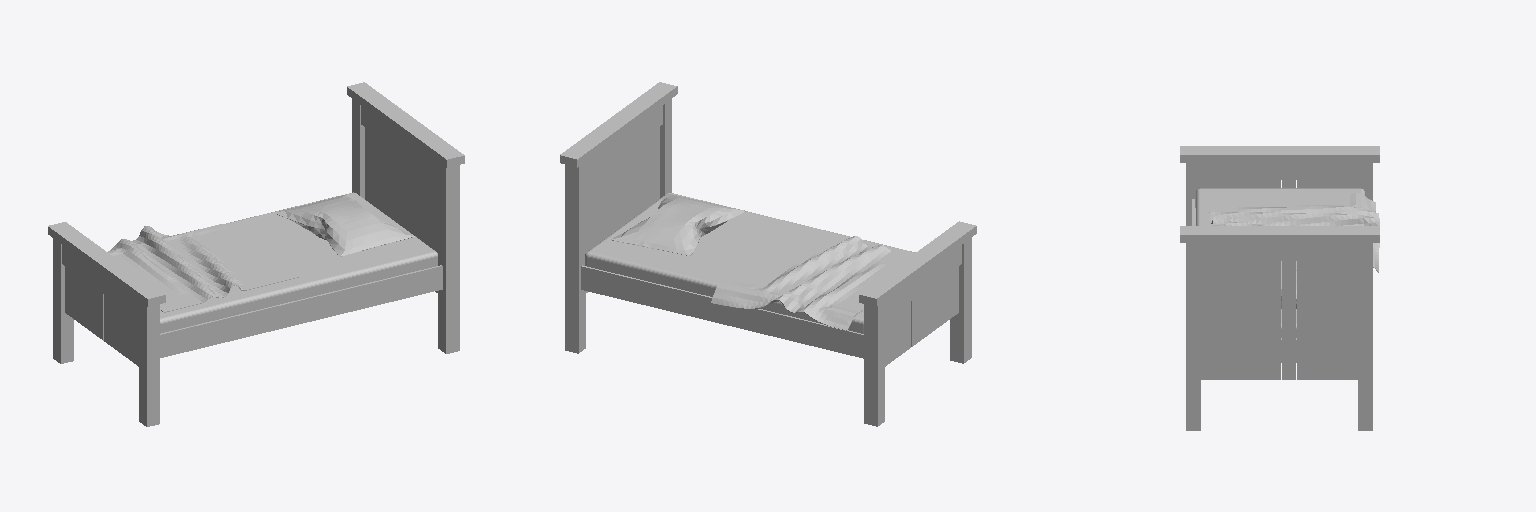
Rendered from Old_bed.obj.
3 views of the same model, side by side, from view 1: azimuth 30°, elevation 25°; view 2: azimuth 150°, elevation 25°; view 3: azimuth 270°, elevation 25° (orthographic).
Parts seen in each view (by area): view 1: Old_bed.001, Old_bed; view 2: Old_bed.001, Old_bed; view 3: Old_bed.001, Old_bed.
Boxes of the visible parts, x1=… form: Old_bed.001: x1=48, y1=82, x2=464, y2=426; Old_bed: x1=108, y1=194, x2=415, y2=312; Old_bed.001: x1=560, y1=82, x2=976, y2=426; Old_bed: x1=611, y1=193, x2=910, y2=330; Old_bed.001: x1=1180, y1=146, x2=1379, y2=430; Old_bed: x1=1209, y1=193, x2=1379, y2=308.
Bounding box in the file's own units: 319 × 190 × 175.